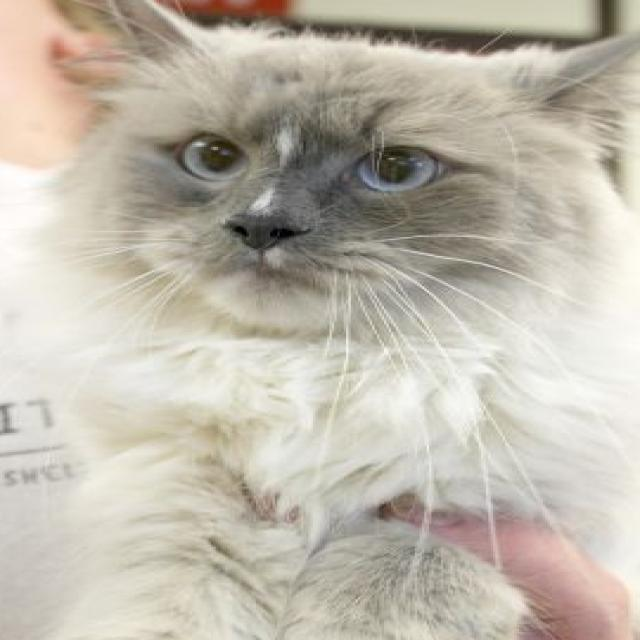Ragdoll: (28, 0, 640, 640)
